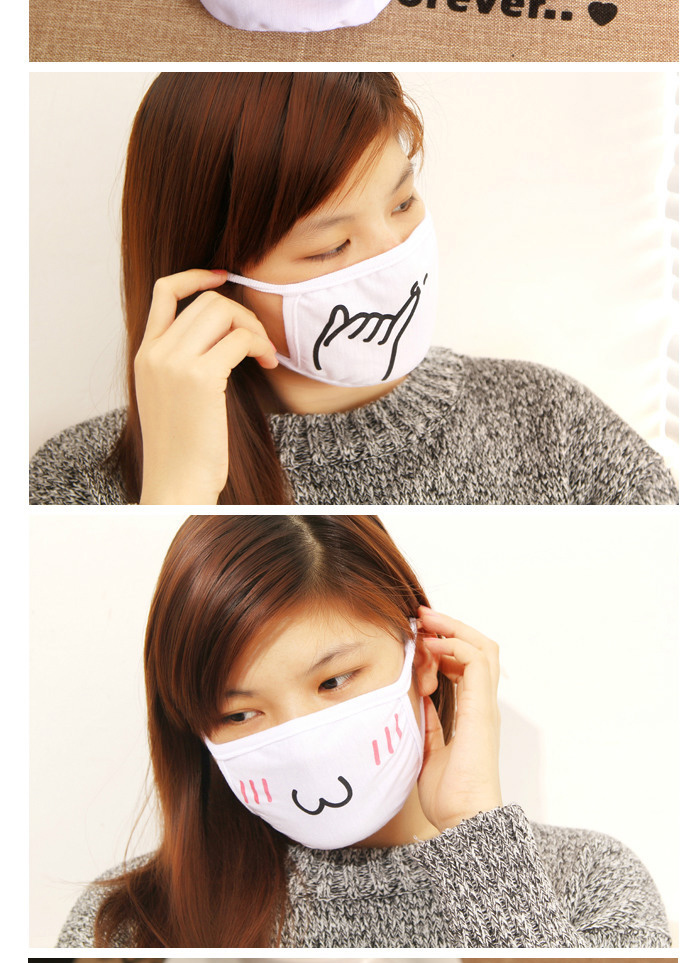face_mask: (246, 81, 432, 386), (211, 582, 413, 849)
